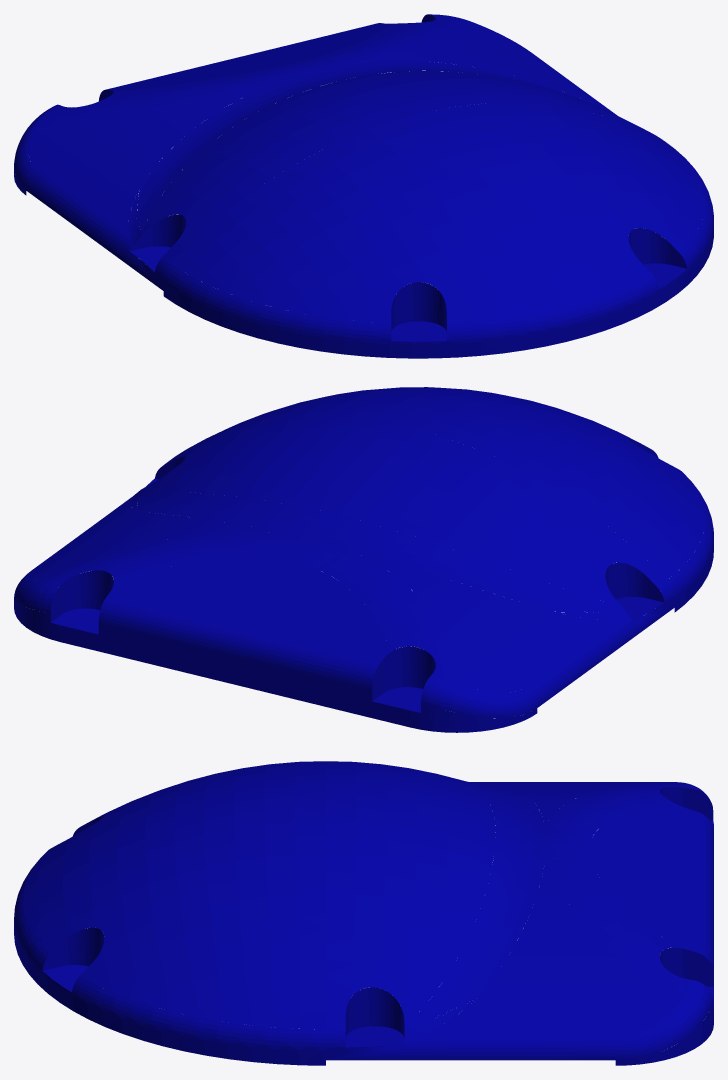
File: cover.dae
3 renders of one model, top to bottom at view 1: azimuth 30°, elevation 25°; view 2: azimuth 150°, elevation 25°; view 3: azimuth 270°, elevation 25°, orthographic. The views are drawn at different scales.
Visible parts, largest first — view 1: Cover; view 2: Cover; view 3: Cover.
Boxes of the visible parts, x1,y1,x2,y2 form: Cover: (14, 14, 713, 358); Cover: (14, 387, 713, 732); Cover: (14, 761, 713, 1065).
Bounding box in the file's own units: 0.127 × 0.1425 × 0.0285.
